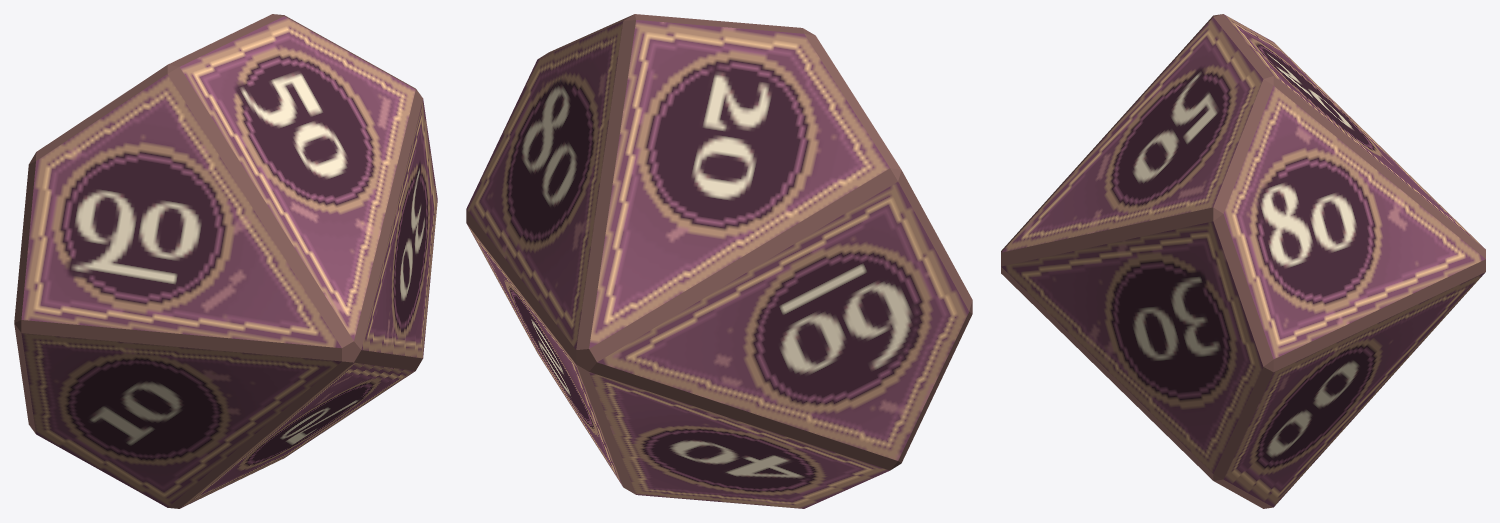
3 views of the same model, side by side, from view 1: azimuth 30°, elevation 25°; view 2: azimuth 150°, elevation 25°; view 3: azimuth 270°, elevation 25° (orthographic). The views are drawn at different scales.
Bounding box in the file's own units: 188 × 179 × 183.
Materials: 1 (1 with a texture image).
